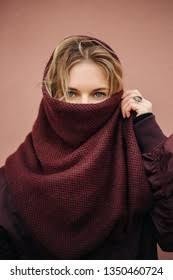scarf-kerchief: (9, 96, 163, 186)
